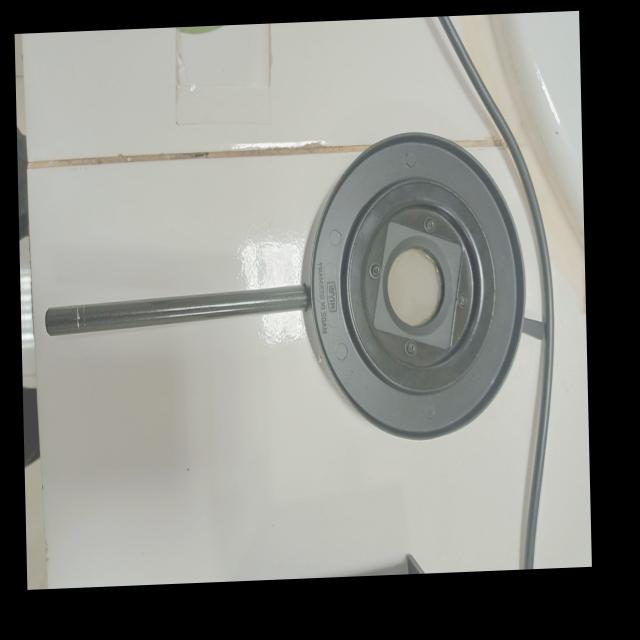Optical Polarizer: (31, 113, 548, 481)
